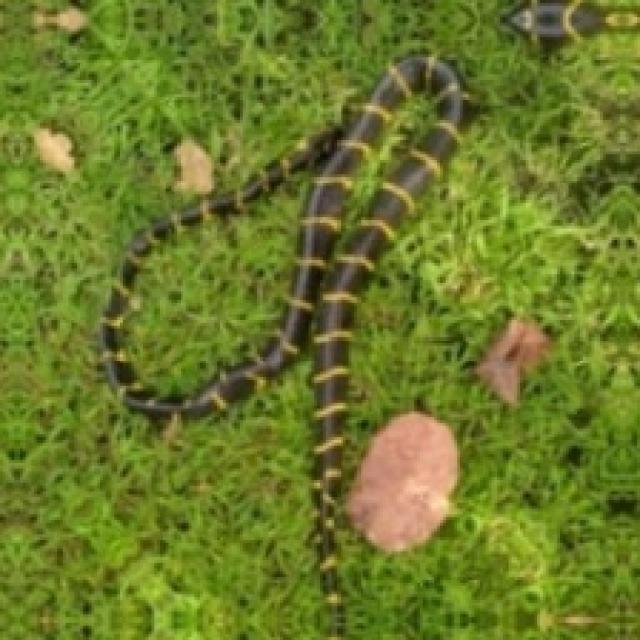mangrove cat snake: (100, 54, 463, 637)
